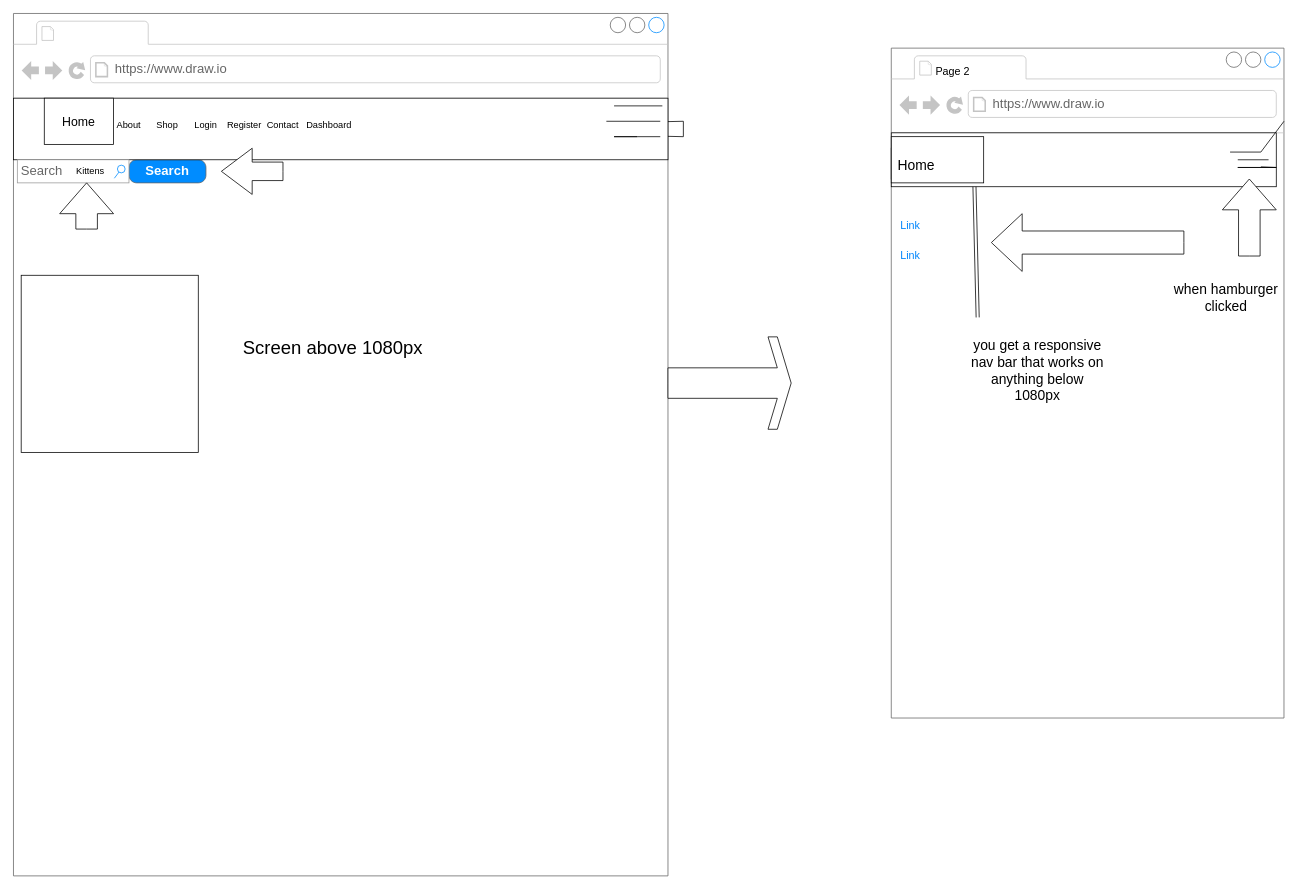
This 1298x889 diagram has some shape labels left out. The centre of each missing label's shape, as x and y in pixels:
Active: the point at 948,194
Disabled: the point at 948,286
I m age of Kitten: the point at 109,363
Page 1: the point at 101,32
